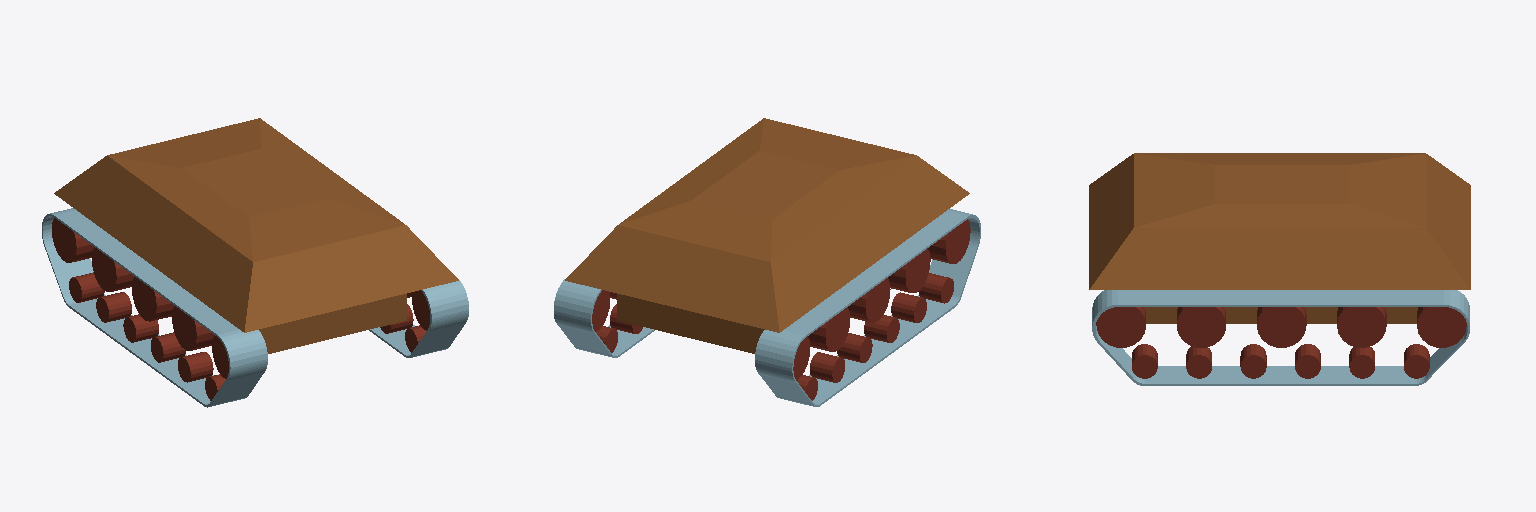
File: terminator_body.obj
3 renders of one model, left to right at view 1: azimuth 30°, elevation 25°; view 2: azimuth 150°, elevation 25°; view 3: azimuth 270°, elevation 25°, orthographic.
Visible parts, largest first — view 1: TerminatorBody; view 2: TerminatorBody; view 3: TerminatorBody.
Boxes of the visible parts, box(x1,y1,x2,y2) form: TerminatorBody: box(42, 118, 468, 407); TerminatorBody: box(554, 118, 980, 406); TerminatorBody: box(1089, 153, 1470, 385).
Bounding box in the file's own units: 10.5 × 6.03 × 14.52.